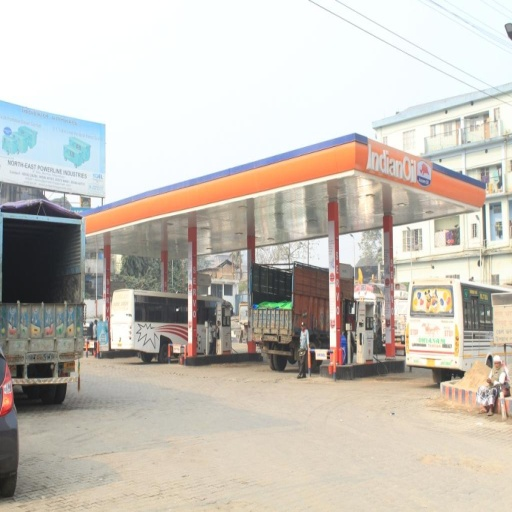roof: (80, 133, 488, 261)
